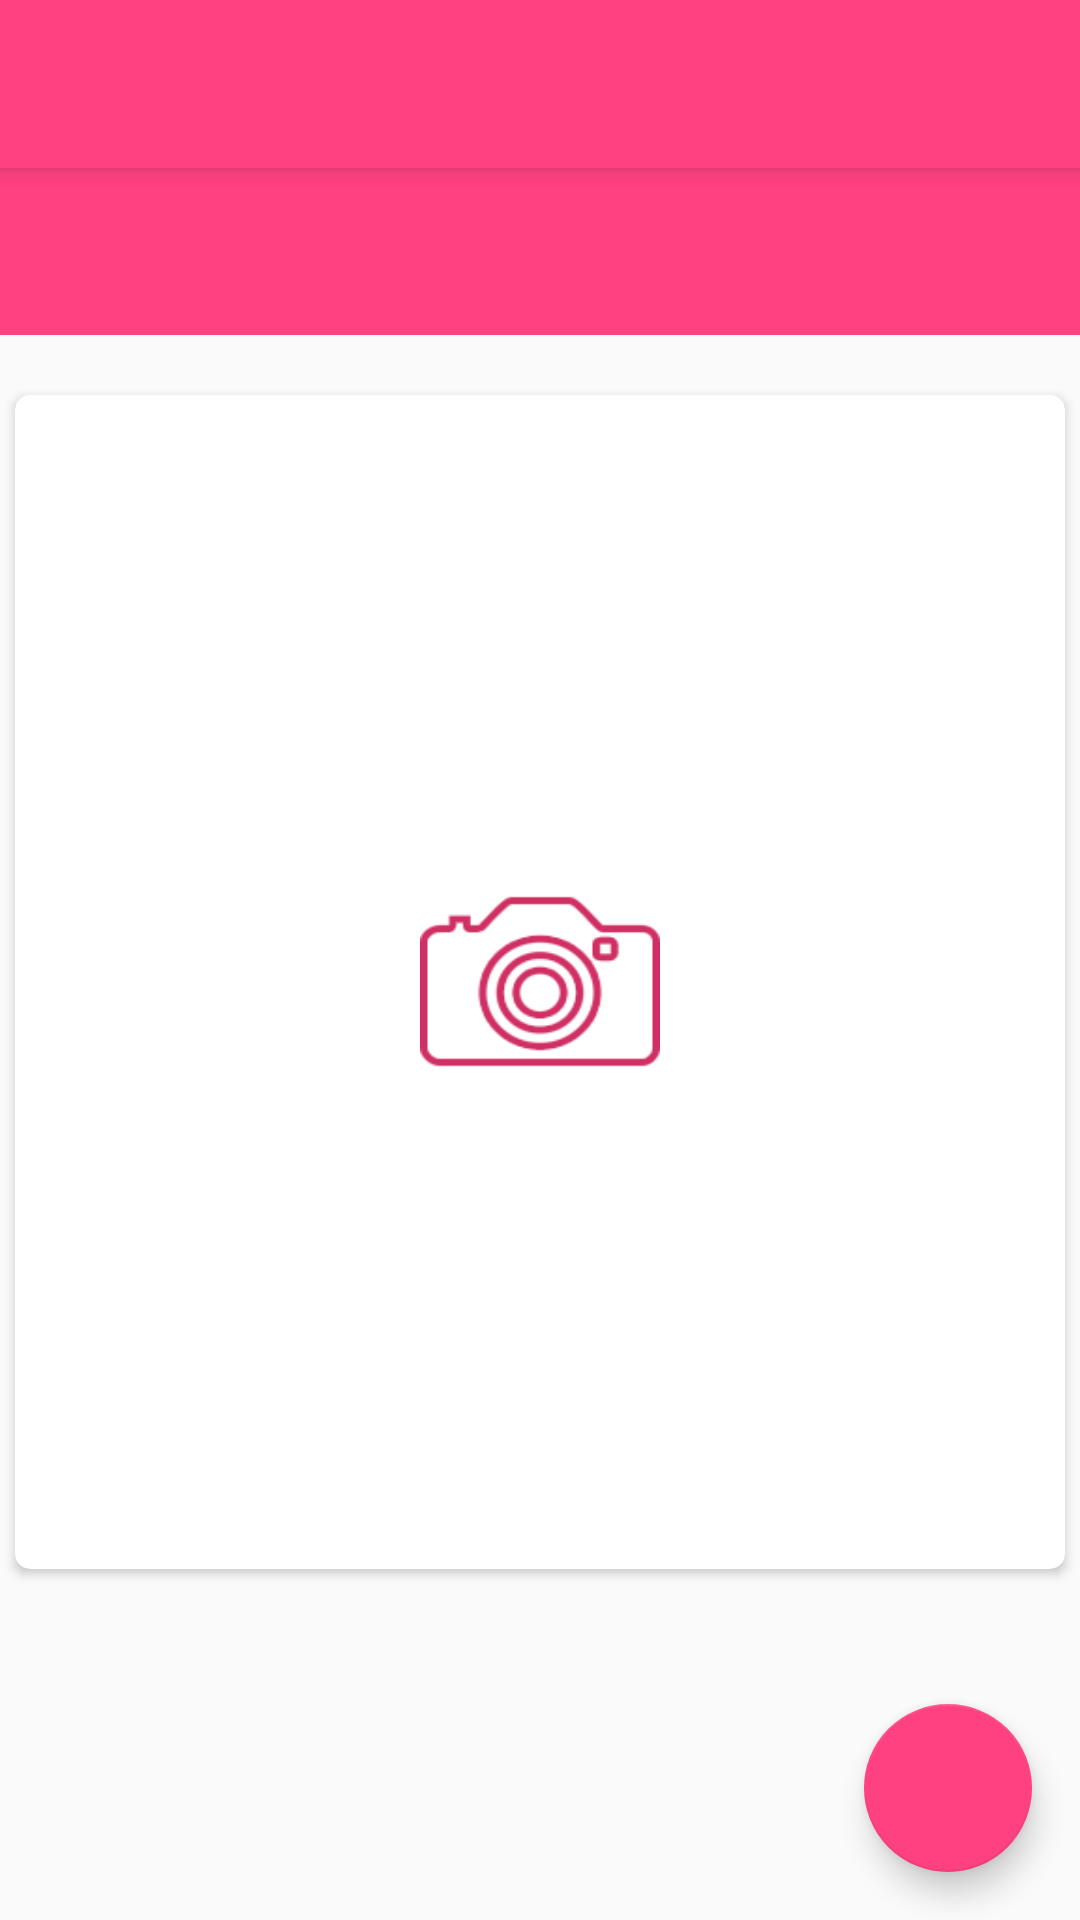

Point at icon controls on the screen. Image size 1080px x 1920px, points as (x,y).
camera: (540,981)
